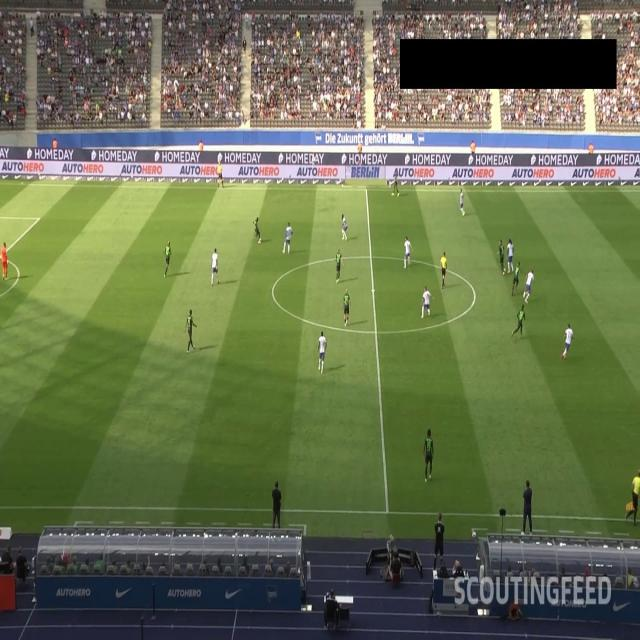ball: (259, 237, 263, 243)
player: (422, 428, 434, 482), (184, 309, 197, 355), (560, 322, 574, 362), (511, 304, 526, 341), (522, 268, 536, 304), (317, 330, 328, 374), (420, 286, 434, 320), (282, 220, 294, 256), (0, 240, 10, 283), (210, 246, 220, 288), (341, 288, 351, 329), (497, 238, 507, 277), (511, 261, 521, 297), (403, 236, 413, 269), (164, 240, 172, 280), (335, 249, 344, 284), (390, 170, 401, 198), (507, 238, 515, 273), (340, 212, 349, 242), (252, 216, 262, 243), (458, 187, 466, 219)
